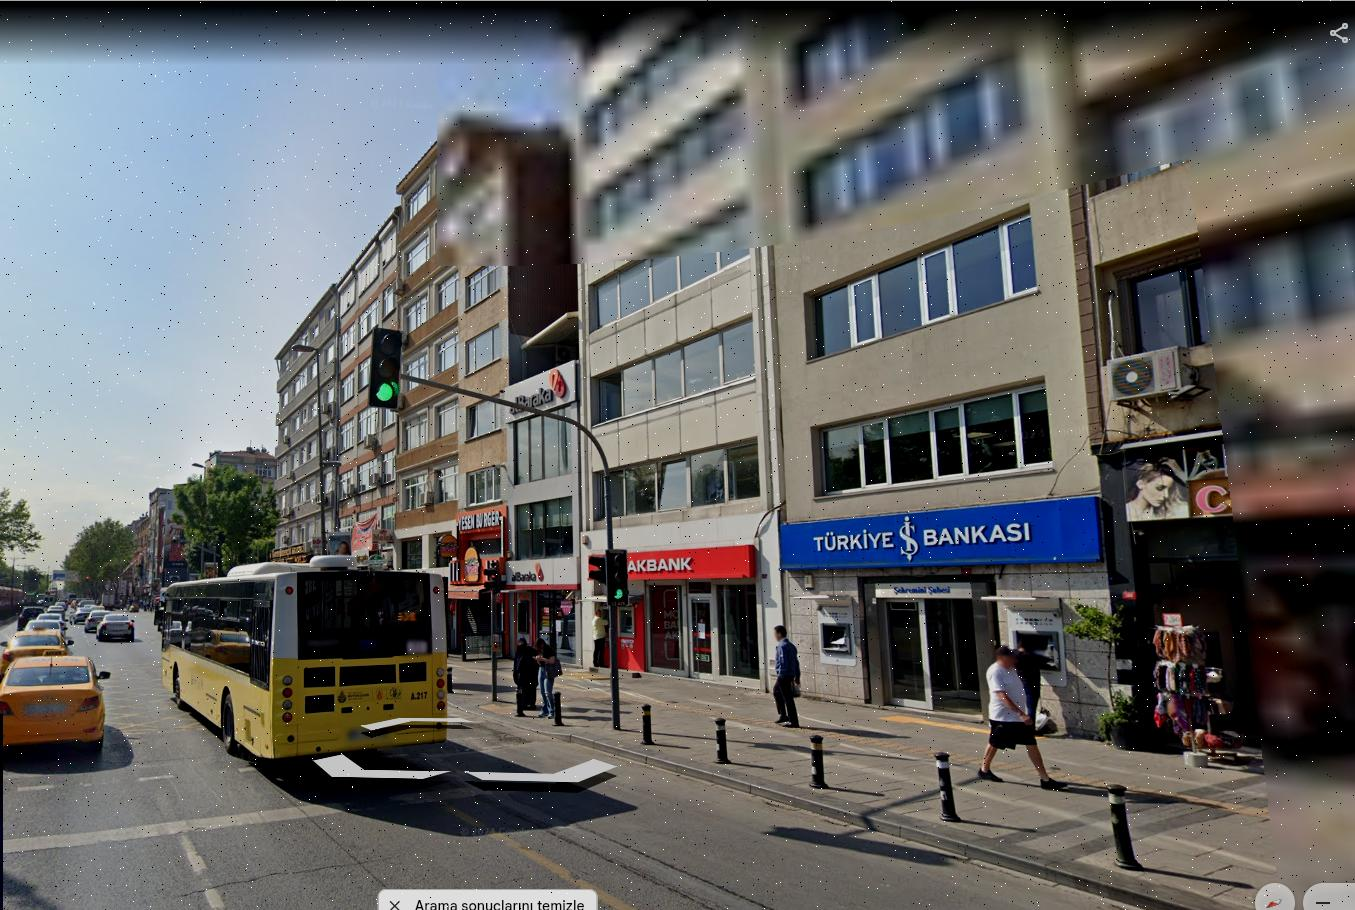greenlight: (368, 323, 406, 413), (604, 546, 631, 609)
